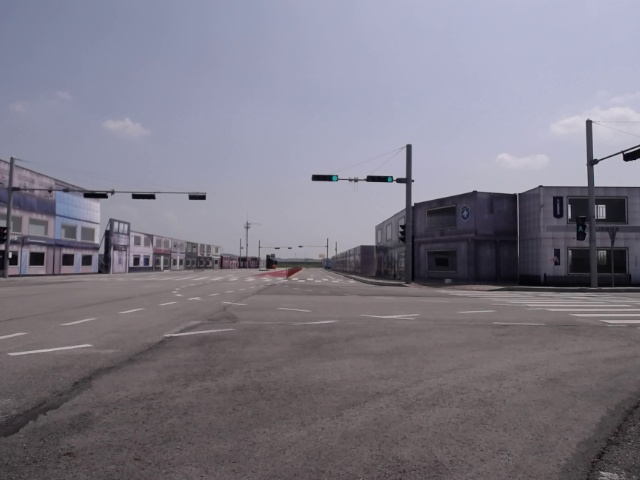straight_green_4: (311, 174, 339, 183), (366, 175, 393, 184)
